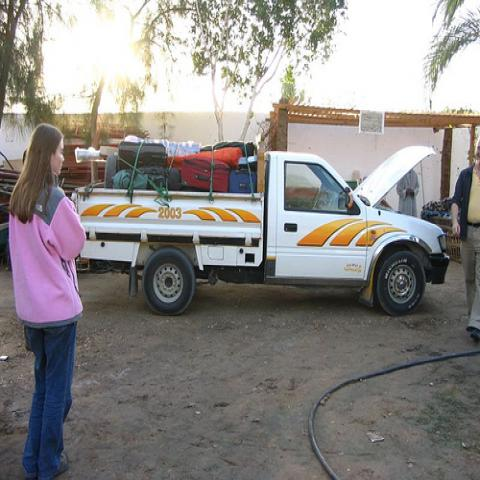truck: (73, 131, 451, 317)
